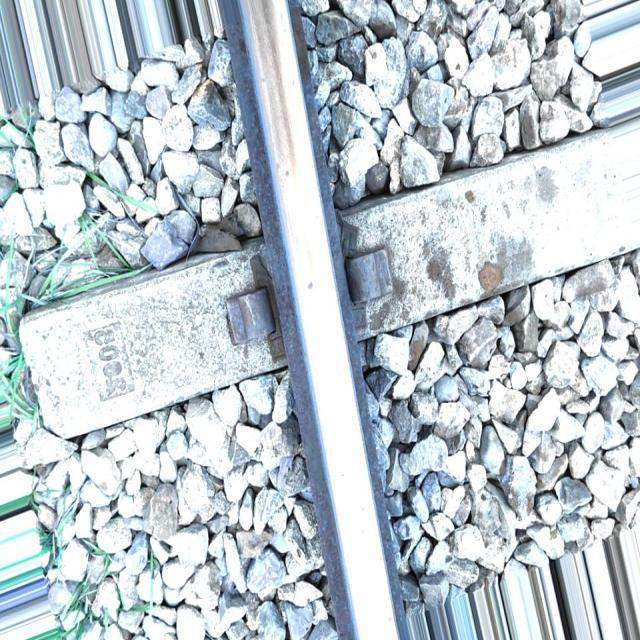Missing Fastener: (210, 281, 289, 349), (334, 251, 409, 311)
